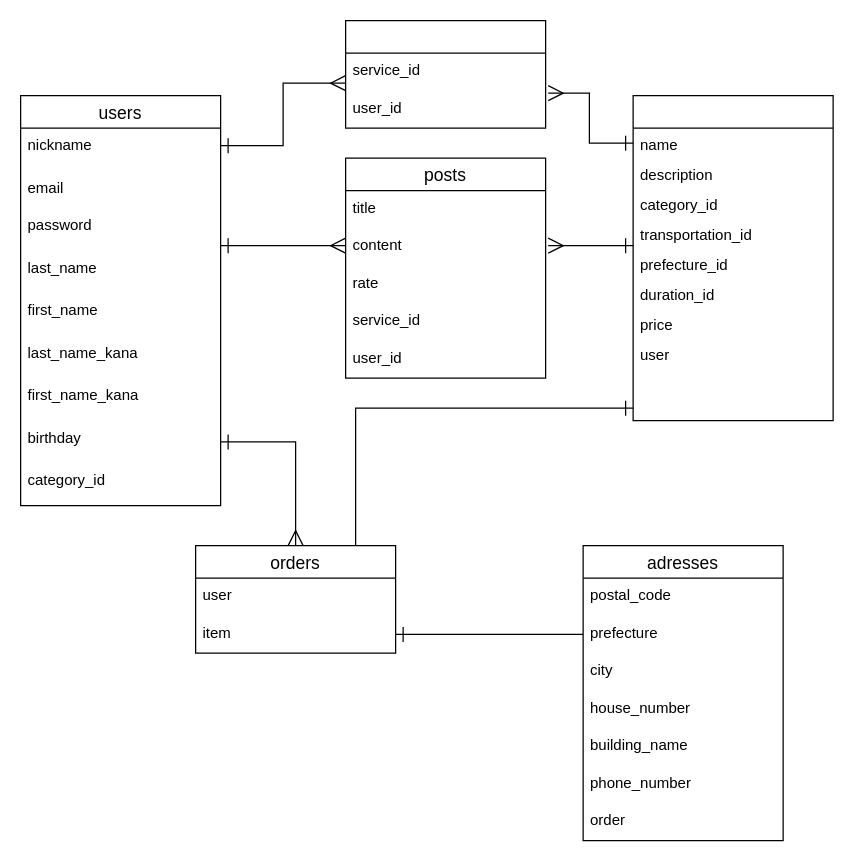
This 854x861 diagram has some shape labels left out. The shapes that lost their labels are listed below. From the top down, each one's box as (x1, y1, x2, y2) in pixels, then its label:
(344, 19, 546, 128): likes
(632, 94, 833, 421): services
